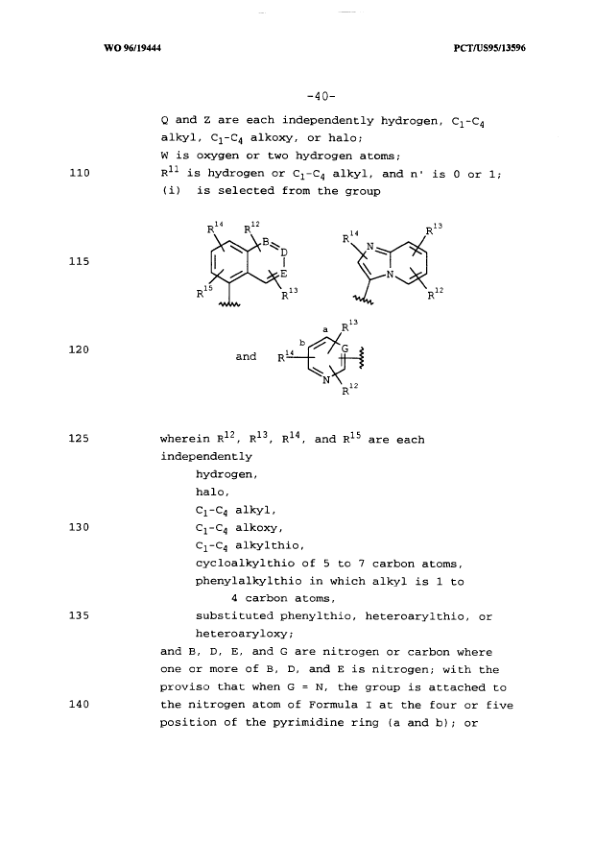compound-structure: (323, 212, 483, 311), (187, 208, 302, 322), (280, 324, 387, 405)
